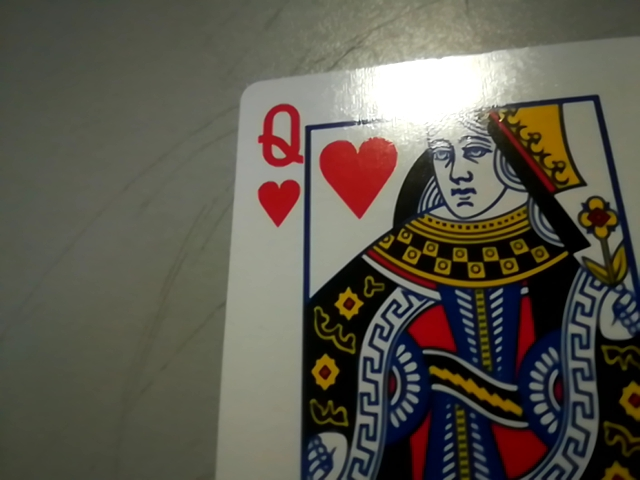hx q: (246, 97, 309, 229)
